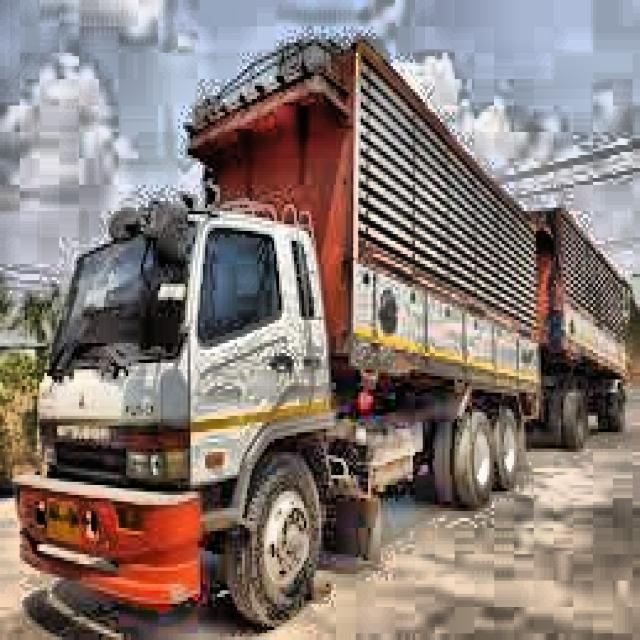trailer: (18, 36, 629, 631)
